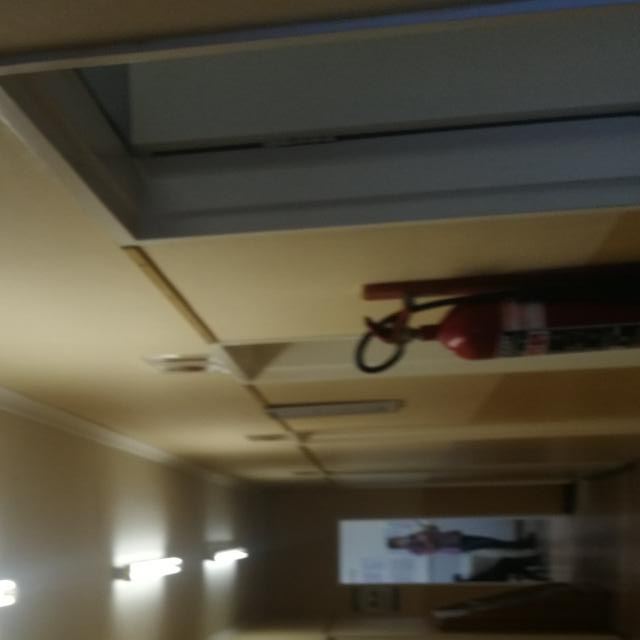fluorescent tube: (104, 538, 207, 591), (0, 536, 46, 640), (203, 540, 252, 572)
